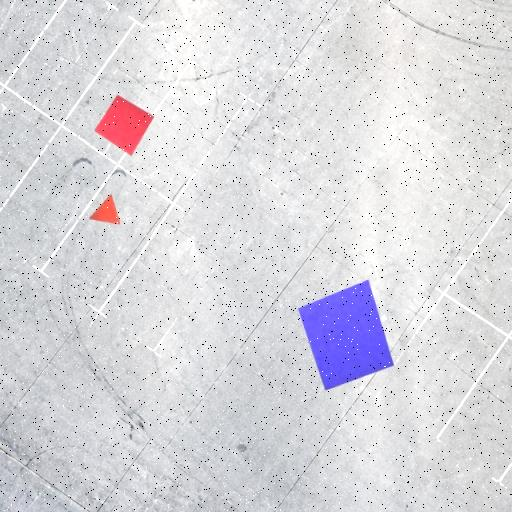BLUE_SQUARE: (298, 279, 394, 391)
RED_SQUARE: (94, 94, 155, 156)
